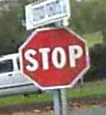stop: (16, 24, 88, 88)
